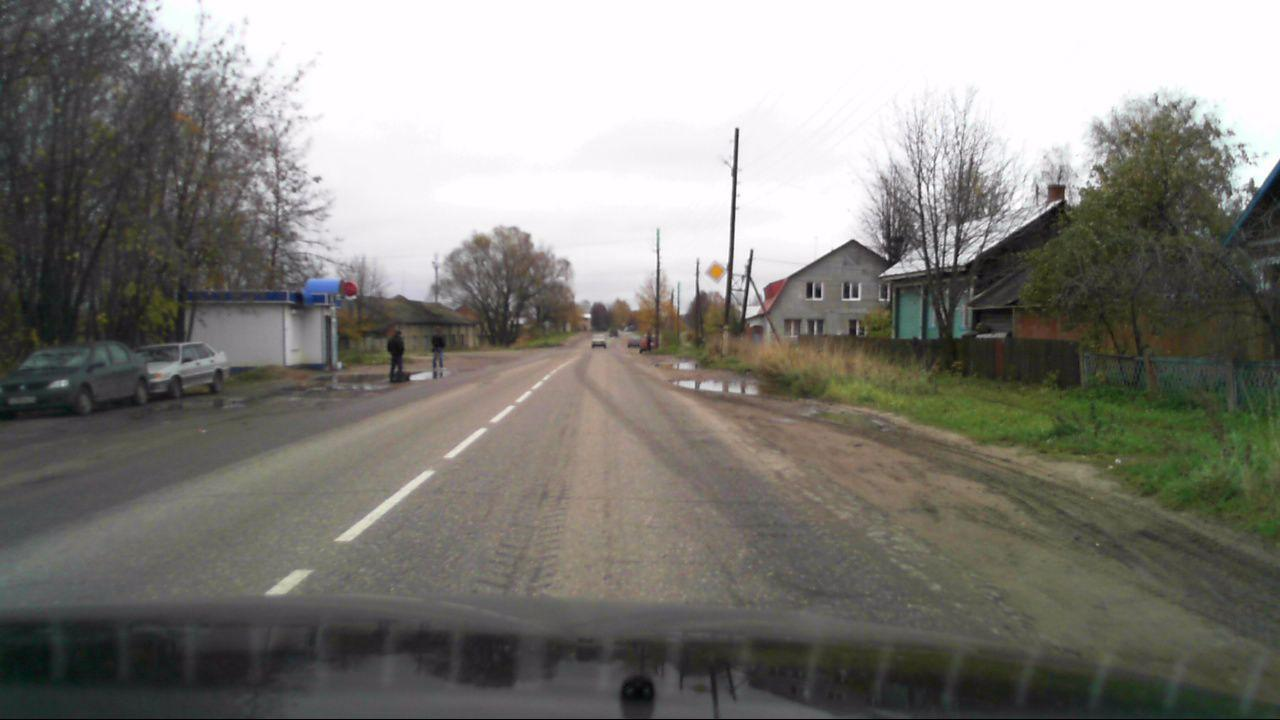2_1: (703, 259, 728, 282)
